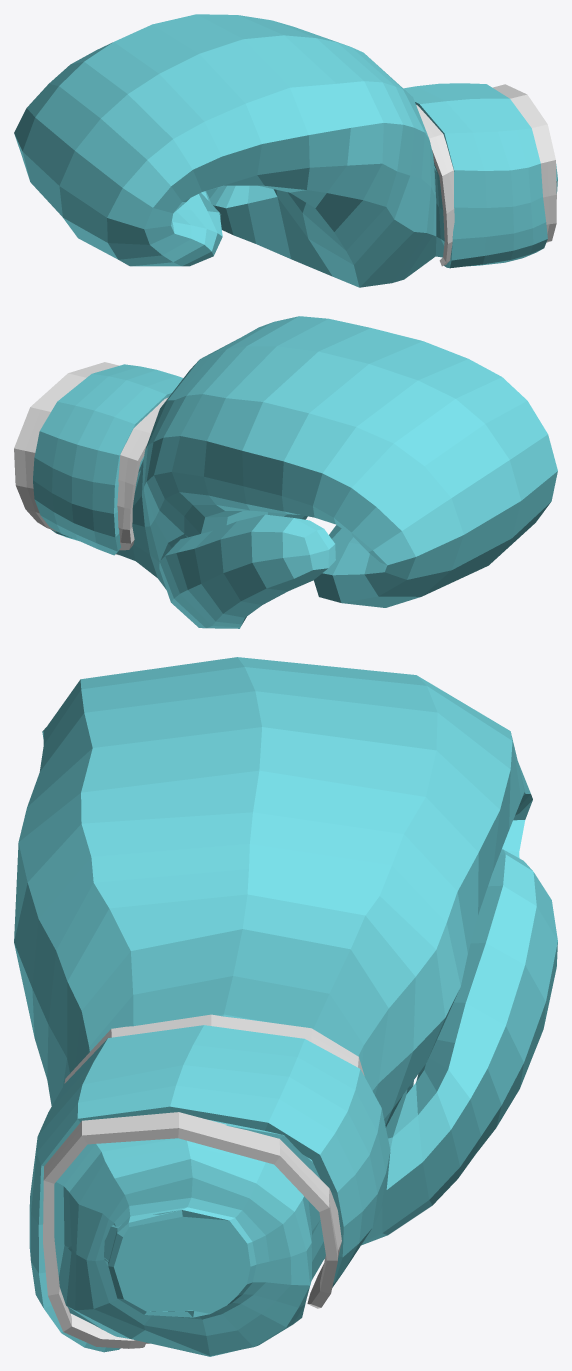
The model's file is boxing glove26.11.2023uusin.fbx.
3 renders of one model, top to bottom at view 1: azimuth 30°, elevation 25°; view 2: azimuth 150°, elevation 25°; view 3: azimuth 270°, elevation 25°, orthographic. The views are drawn at different scales.
Visible parts, largest first — view 1: Cube, Cube.002, Cube.001; view 2: Cube, Cube.002, Cube.001; view 3: Cube, Cube.002, Cube.001.
Part boxes in pixels (x1,y1,x2,y2): Cube: [14, 14, 557, 287]; Cube.002: [403, 83, 547, 268]; Cube.001: [416, 84, 556, 266]; Cube: [51, 316, 557, 628]; Cube.002: [33, 364, 183, 555]; Cube.001: [14, 362, 168, 550]; Cube: [14, 657, 557, 1356]; Cube.002: [29, 1025, 390, 1352]; Cube.001: [43, 1014, 364, 1348].
Bounding box in the file's own units: 83.14 × 44.13 × 48.23.
